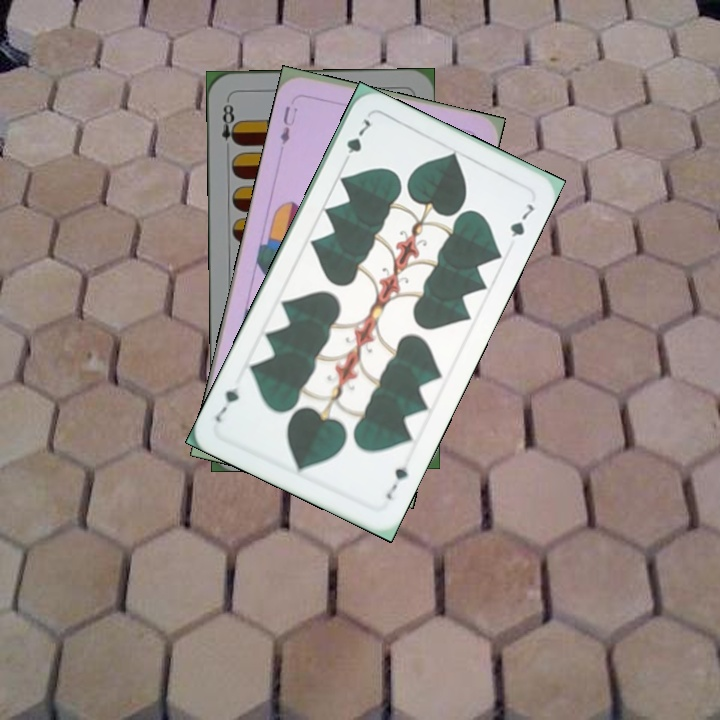E8: (218, 96, 241, 155)
EU: (276, 102, 300, 147)
G7: (338, 114, 374, 168), (382, 462, 411, 503)
